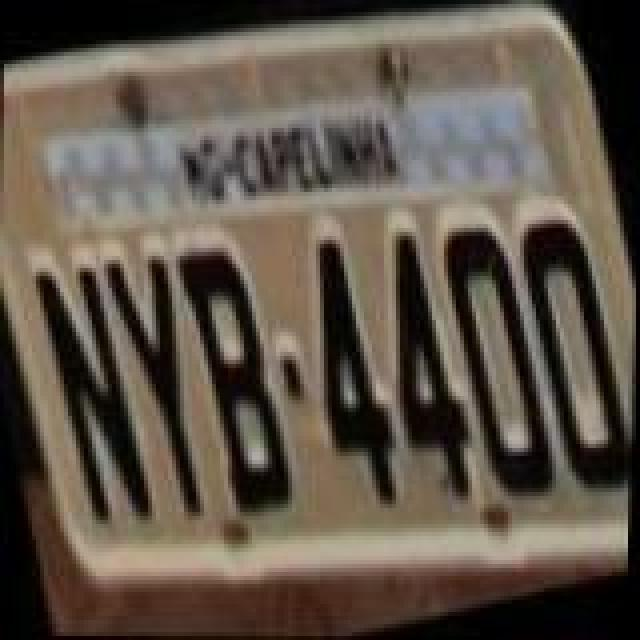4: (282, 226, 422, 522), (358, 220, 498, 516)
B: (168, 236, 308, 524)
N: (28, 252, 168, 540)
O: (428, 218, 572, 514), (502, 208, 638, 504)
Y: (94, 246, 230, 534)
